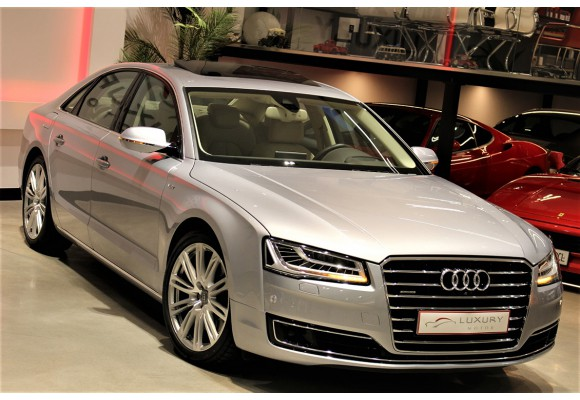audi: (433, 267, 492, 293)
